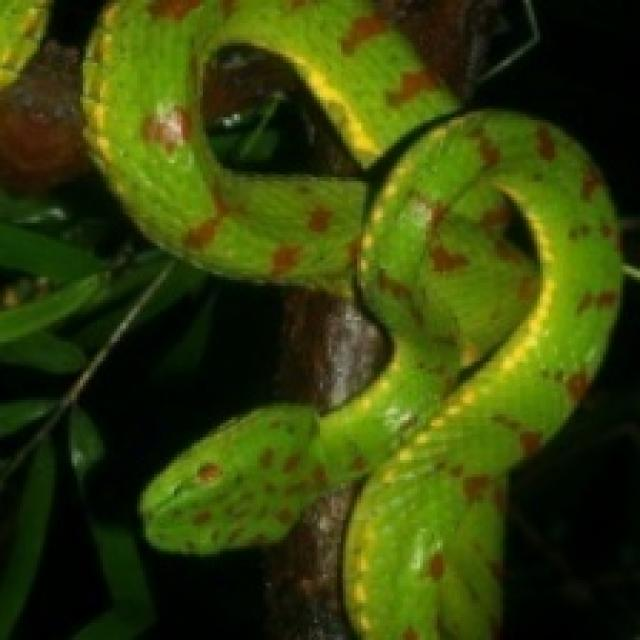philippine pitviper: (83, 0, 620, 637)
